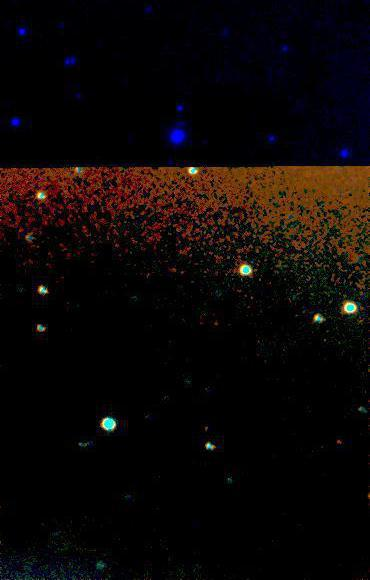star: (324, 428, 354, 458)
